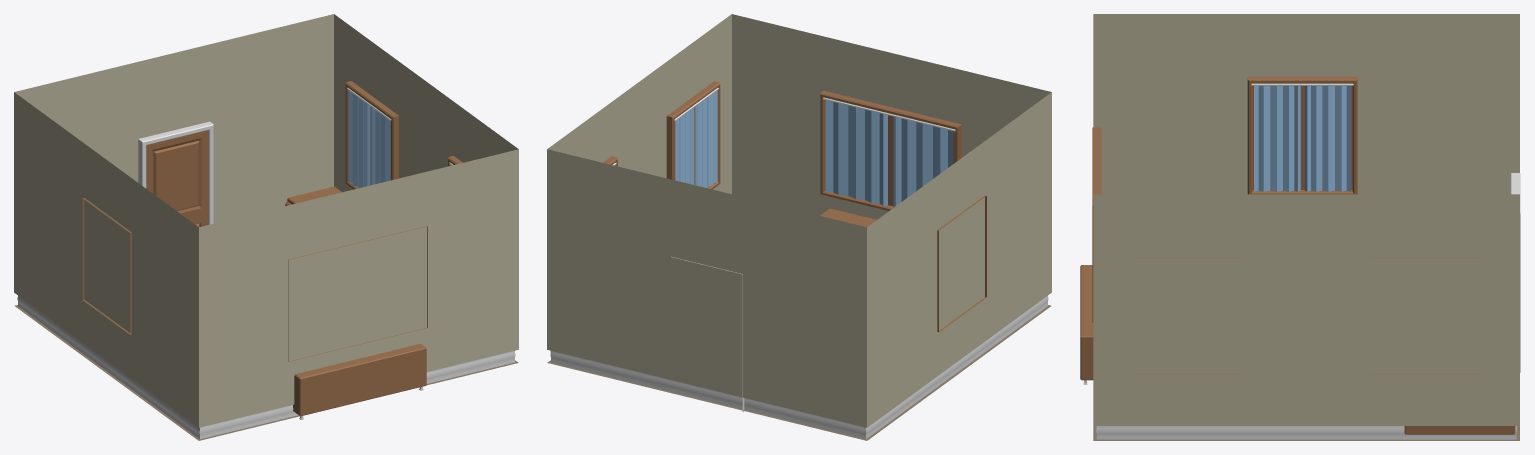
File: Room.glb
3 renders of one model, left to right at view 1: azimuth 30°, elevation 25°; view 2: azimuth 150°, elevation 25°; view 3: azimuth 270°, elevation 25°, orthographic. The views are drawn at different scales.
Parts seen in each view (by area): view 1: Plane.001, Cube.008, Cube.010, Plane.002, Cube.002, Cube.006, Plane, Cube.005, Cube.007; view 2: Plane.001, Plane.006, Plane.003, Cube.007, Cube.004, Plane, Cube.005, Cube.008; view 3: Plane.001, Plane.004, Cube.005, Cube.008, Cube, Plane, Cube.007.
Boxes of the visible parts, x1,y1,x2,y2 form: Plane.001: (14, 14, 518, 439); Cube.008: (293, 343, 426, 416); Cube.010: (146, 130, 208, 226); Plane.002: (348, 90, 390, 188); Cube.002: (345, 81, 398, 189); Cube.006: (138, 121, 213, 224); Plane: (14, 305, 518, 440); Cube.005: (82, 198, 131, 334); Cube.007: (288, 226, 427, 361); Plane.001: (547, 14, 1051, 439); Plane.006: (825, 100, 953, 207); Plane.003: (675, 90, 717, 188); Cube.007: (820, 90, 961, 211); Cube.004: (666, 81, 720, 189); Plane: (547, 305, 1051, 440); Cube.005: (937, 195, 986, 332); Cube.008: (820, 208, 876, 226); Plane.001: (1093, 14, 1519, 439); Plane.004: (1254, 86, 1351, 191); Cube.005: (1247, 76, 1357, 194); Cube.008: (1080, 265, 1093, 380); Cube: (1404, 426, 1515, 434); Plane: (1093, 426, 1519, 440); Cube.007: (1092, 127, 1101, 322).
Bounding box in the file's own units: 5.15 × 3.28 × 5.28.
